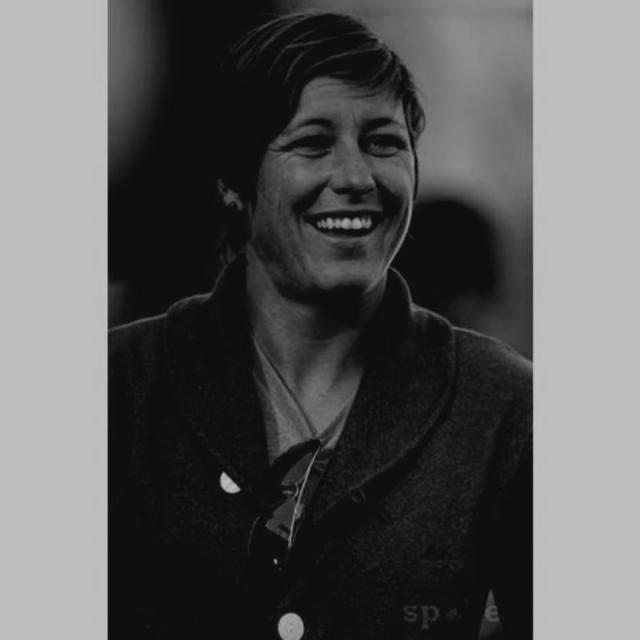real: (210, 76, 422, 314)
